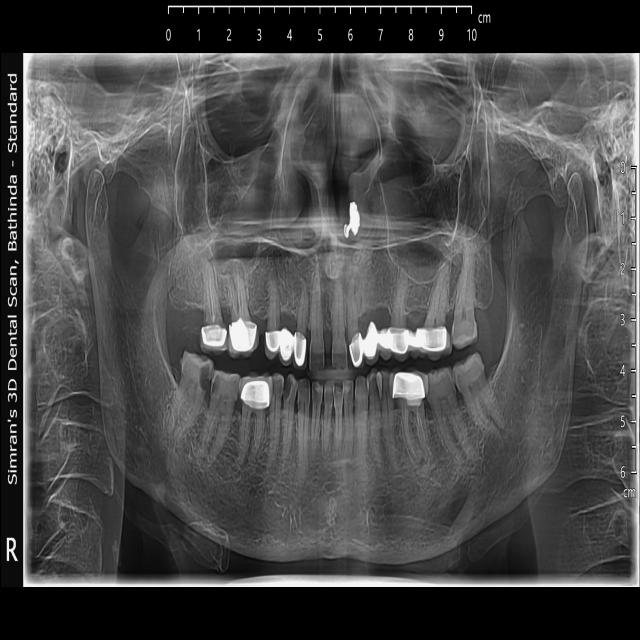Caries: (178, 353, 215, 400), (211, 373, 241, 404), (282, 376, 294, 394)
Crown: (348, 320, 447, 369), (265, 326, 306, 366), (227, 319, 258, 356), (394, 372, 425, 408), (241, 376, 271, 411), (201, 323, 227, 347)
Missing teeth: (358, 274, 389, 326), (253, 285, 267, 333), (409, 292, 428, 326), (284, 286, 296, 329)
Root Canal Treatment: (222, 261, 259, 357), (198, 259, 229, 357)
